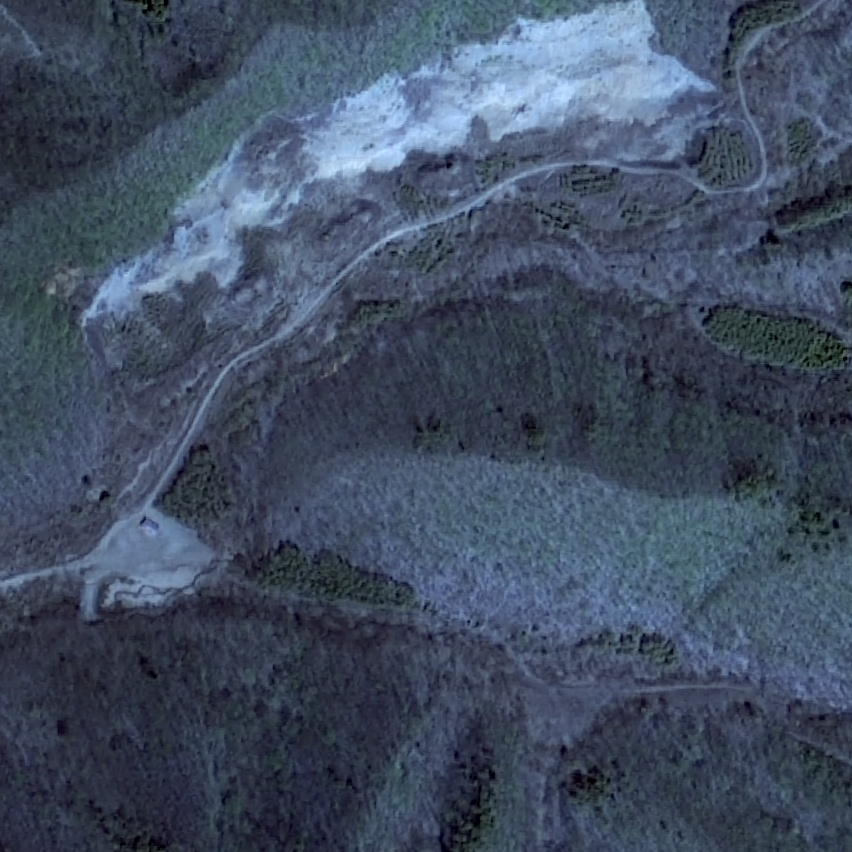slope: (72, 1, 724, 332), (62, 505, 221, 626)
